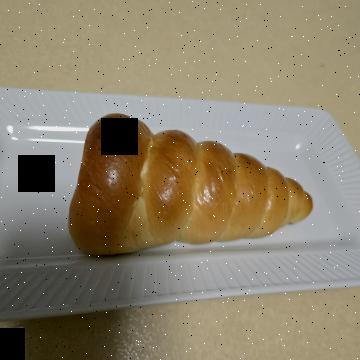cream horn: (92, 35, 287, 312)
